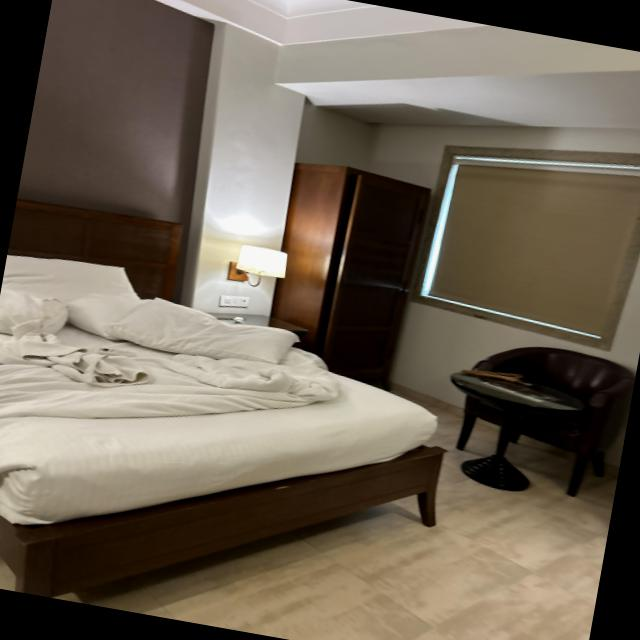mess: (0, 221, 465, 640)
